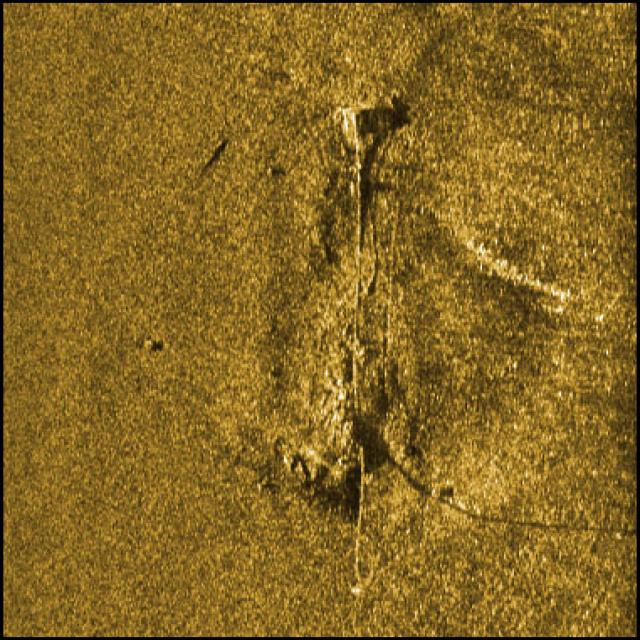other: (265, 81, 437, 601)
